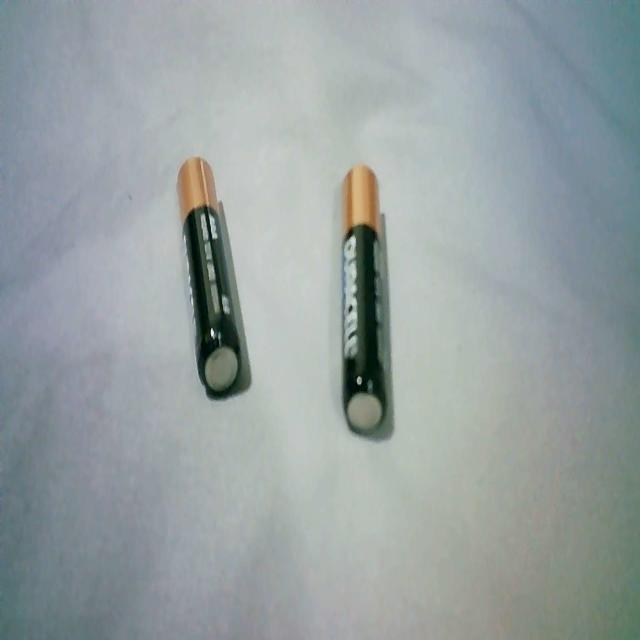AAA: (172, 146, 246, 408), (336, 156, 394, 446)
